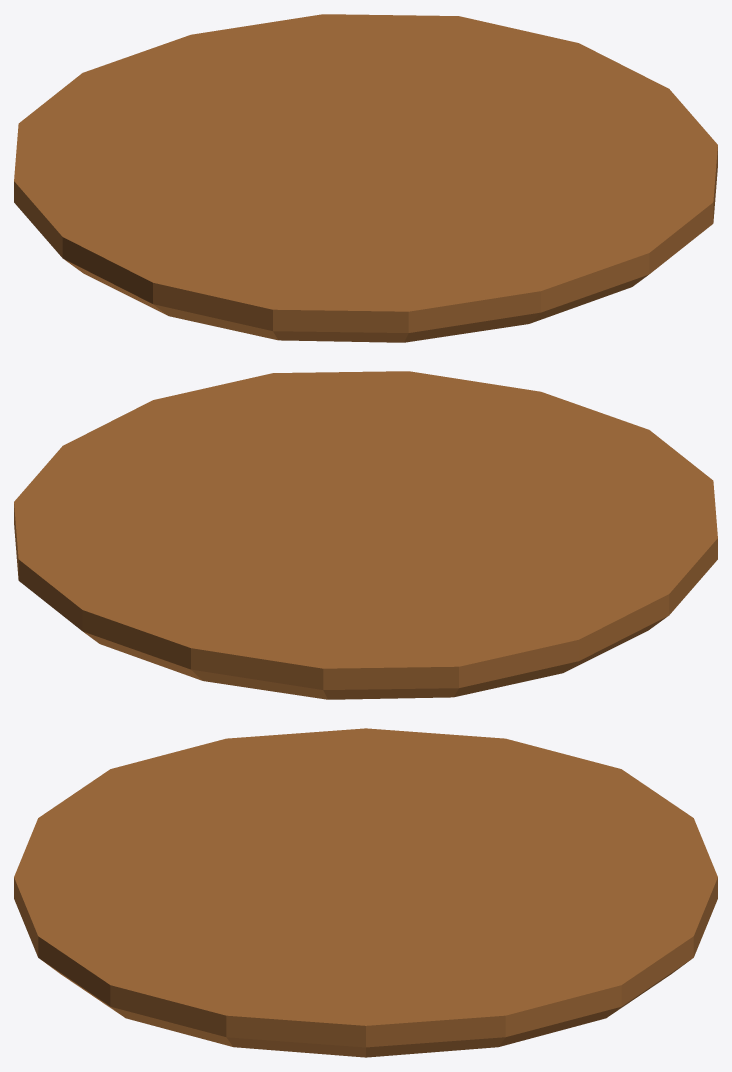
Rendered from hamburger ekmek alt.fbx.
3 views of the same model, one above another, from view 1: azimuth 30°, elevation 25°; view 2: azimuth 150°, elevation 25°; view 3: azimuth 270°, elevation 25° (orthographic).
Visible parts, largest first — view 1: Cube; view 2: Cube; view 3: Cube.
Boxes of the visible parts, x1,y1,x2,y2 form: Cube: (14, 14, 717, 342); Cube: (14, 371, 717, 699); Cube: (14, 728, 717, 1057).
Bounding box in the file's own units: 40 × 5 × 40.
